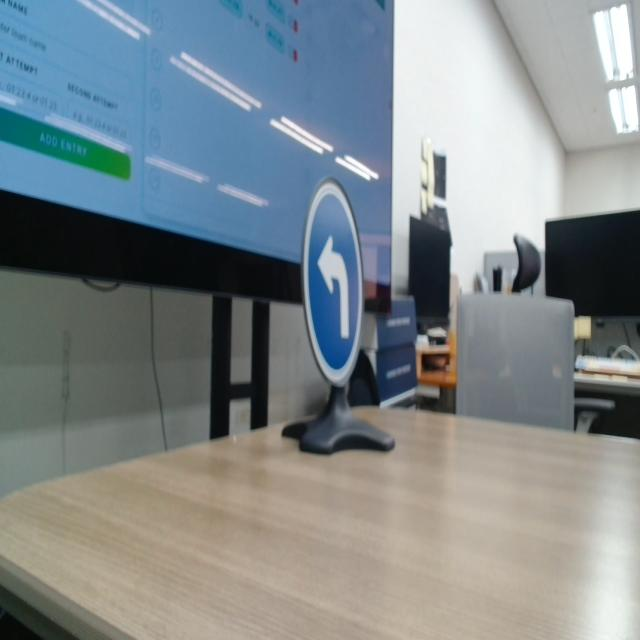left_direction: (300, 163, 392, 416)
